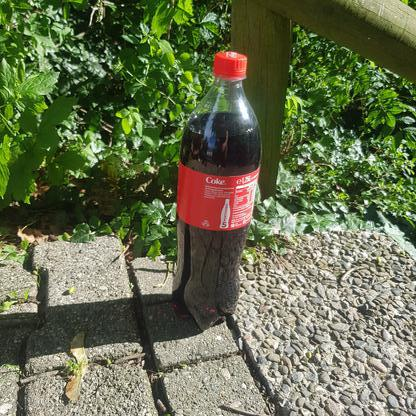coca-cola: (170, 47, 265, 334)
